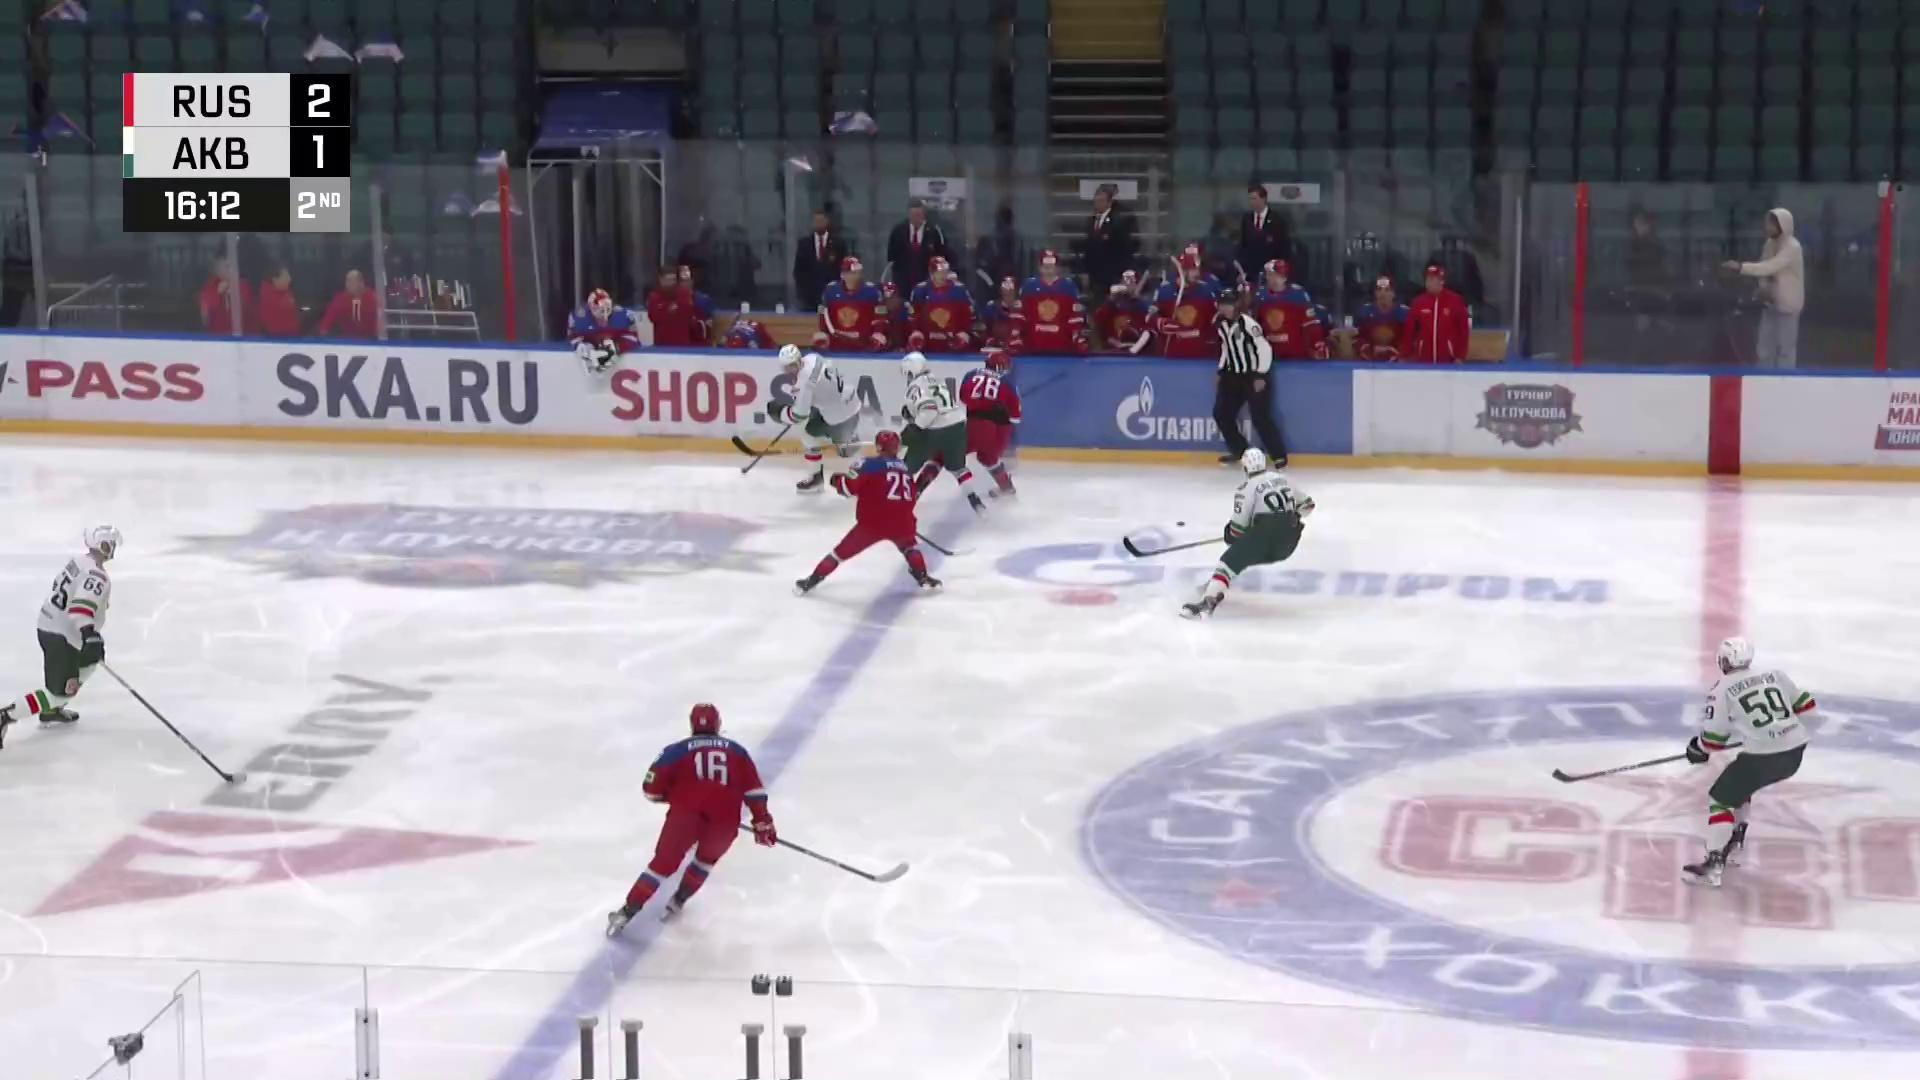ball: (1176, 520, 1185, 527)
